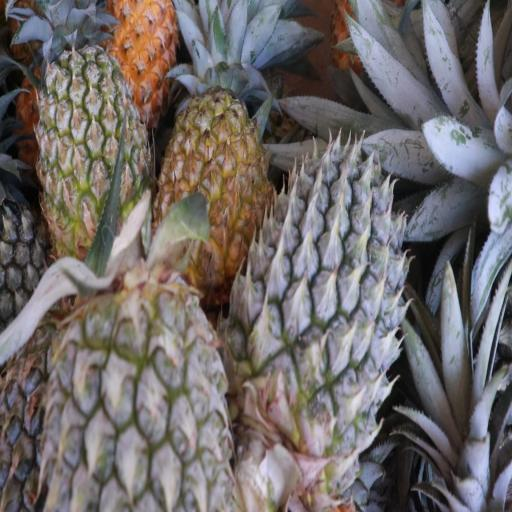------------------------------: (36, 49, 146, 258)
Pineapple - v8 v1: (157, 93, 267, 290), (88, 0, 178, 96)
